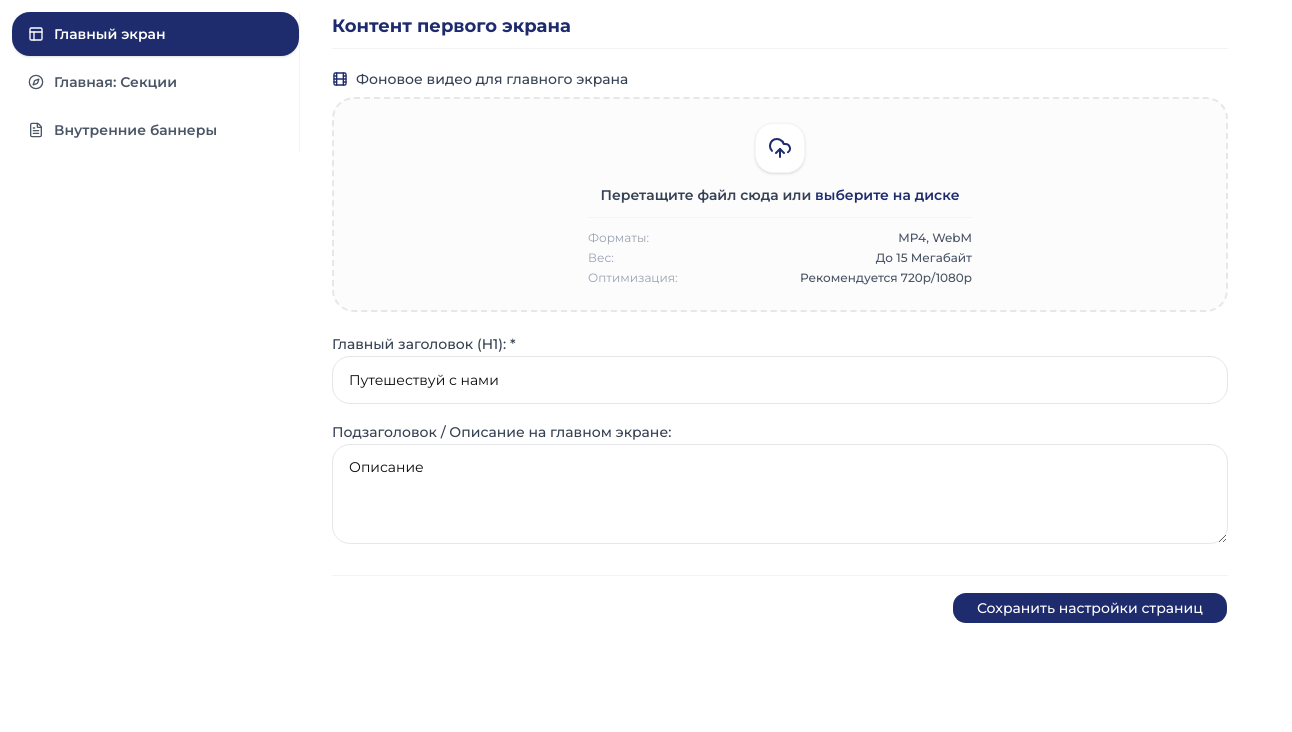
HomepageSettingsForm › переключает на вкладку внутренних баннеров
Click the button "Внутренние баннеры": (156, 130) [12,108,299,152]
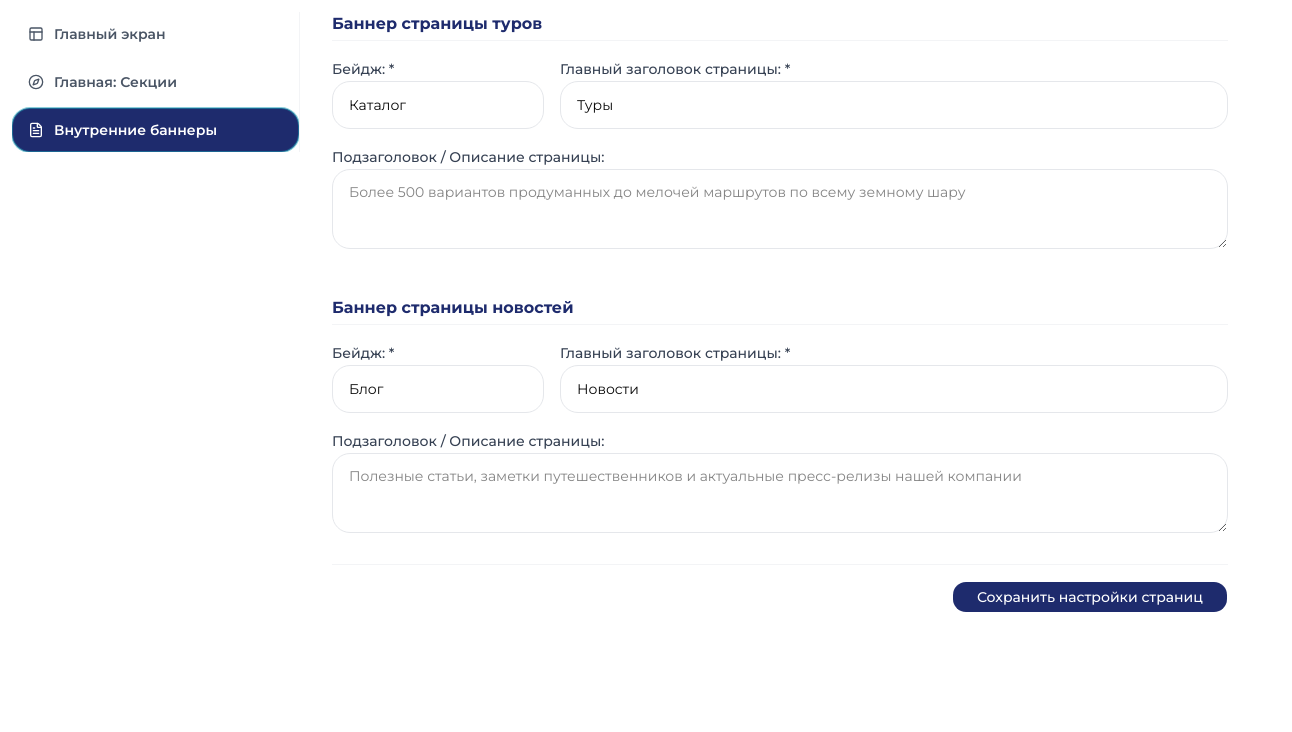
expect the heading "Баннер страницы туров" is shown: met, box [332,12,1228,41]
expect the heading "Баннер страницы новостей" is shown: met, box [332,296,1228,325]
